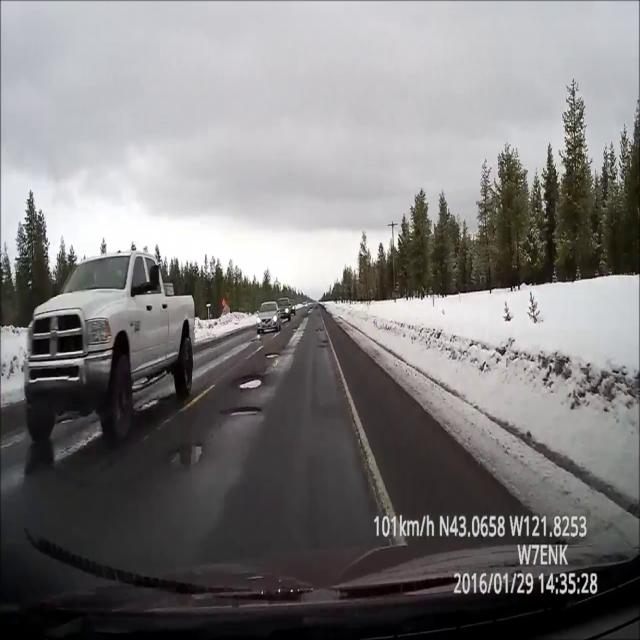Pothole: (170, 440, 206, 470), (229, 400, 262, 420), (237, 374, 264, 393), (266, 351, 281, 361), (318, 340, 329, 349), (252, 338, 261, 342), (294, 327, 302, 331), (302, 314, 309, 318), (316, 328, 323, 332)
